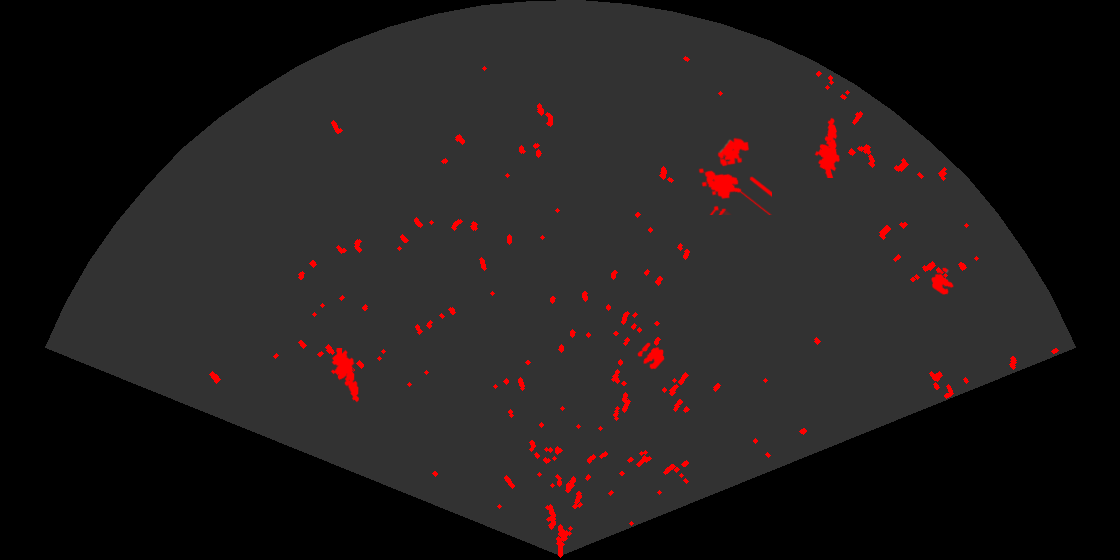ball: (636, 341, 666, 371), (929, 266, 955, 296)
cage: (697, 136, 772, 215)
frogman: (813, 116, 842, 178), (329, 348, 361, 403)
